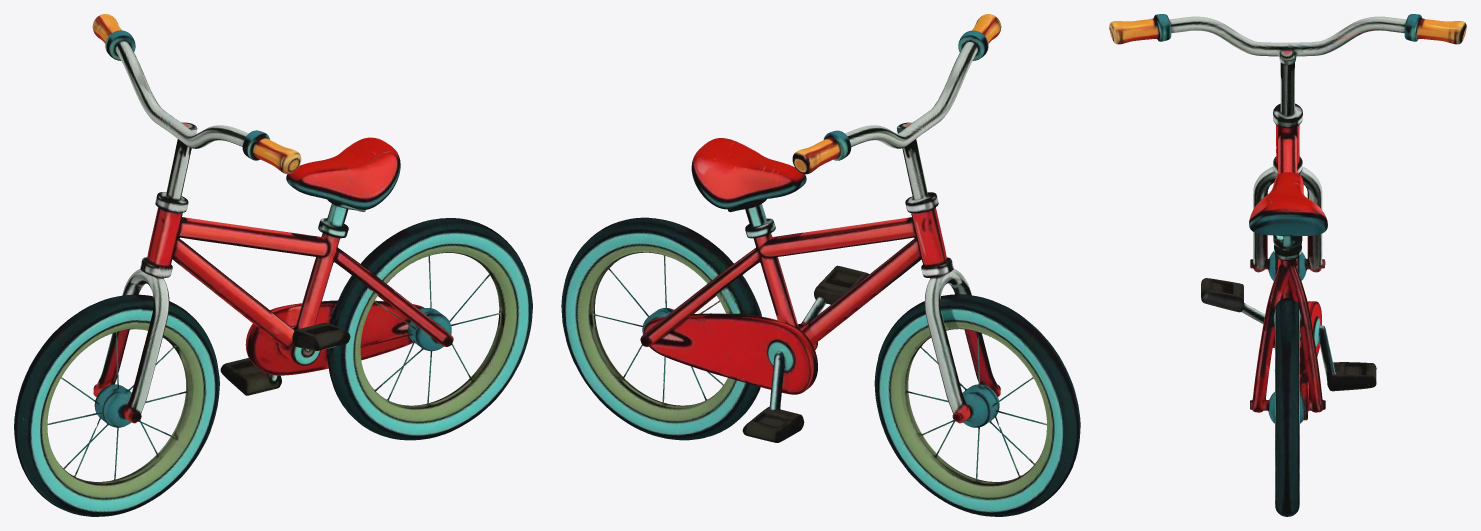
The model's file is Bicicletta.glb.
3 renders of one model, left to right at view 1: azimuth 30°, elevation 25°; view 2: azimuth 150°, elevation 25°; view 3: azimuth 270°, elevation 25°, orthographic. The views are drawn at different scales.
Size of the model in its own units: 1.9 by 1.46 by 1.23.
Materials: 1 (1 with a texture image).
